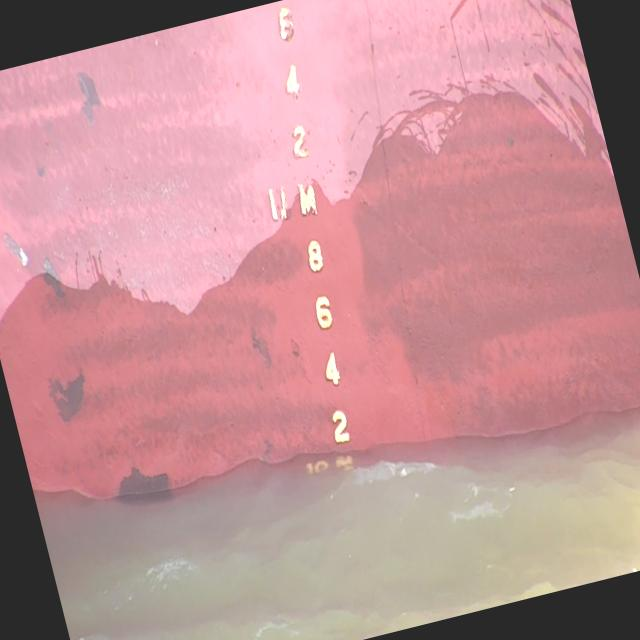Ship Draft Marks: (294, 180, 320, 218), (280, 64, 304, 104), (312, 294, 336, 332), (274, 4, 297, 42), (320, 349, 342, 388), (303, 236, 326, 273), (288, 124, 311, 160), (329, 409, 352, 443), (274, 187, 291, 220), (265, 188, 280, 220)
